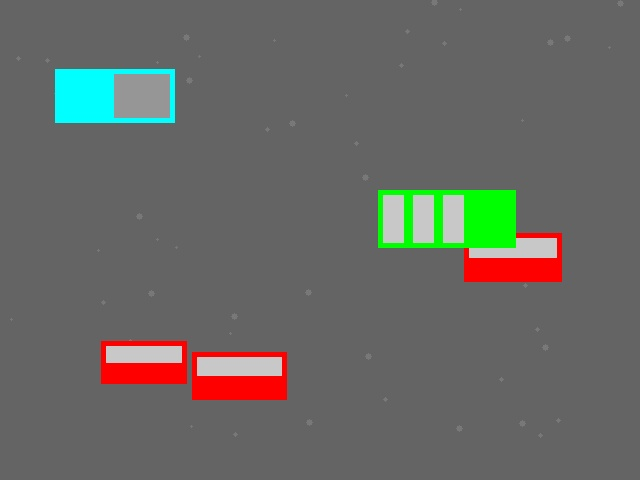bus: (378, 190, 515, 247)
car: (464, 233, 561, 281), (192, 352, 286, 399), (101, 341, 186, 383)
truck: (55, 69, 174, 122)
